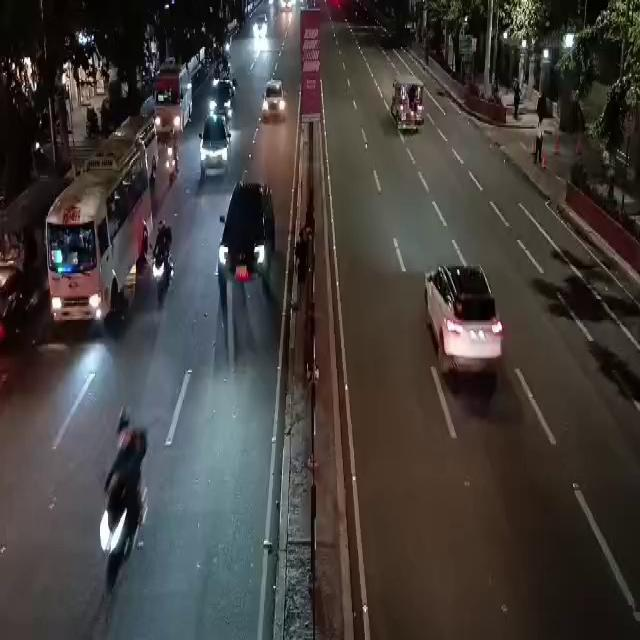bus: (45, 143, 144, 329), (152, 68, 194, 126)
car: (424, 256, 501, 402), (220, 187, 285, 305), (201, 117, 237, 177), (209, 80, 243, 124), (260, 81, 290, 122), (253, 16, 270, 38)
jeepney: (392, 75, 431, 136)
motorcycle: (81, 426, 162, 600), (145, 210, 177, 316)
